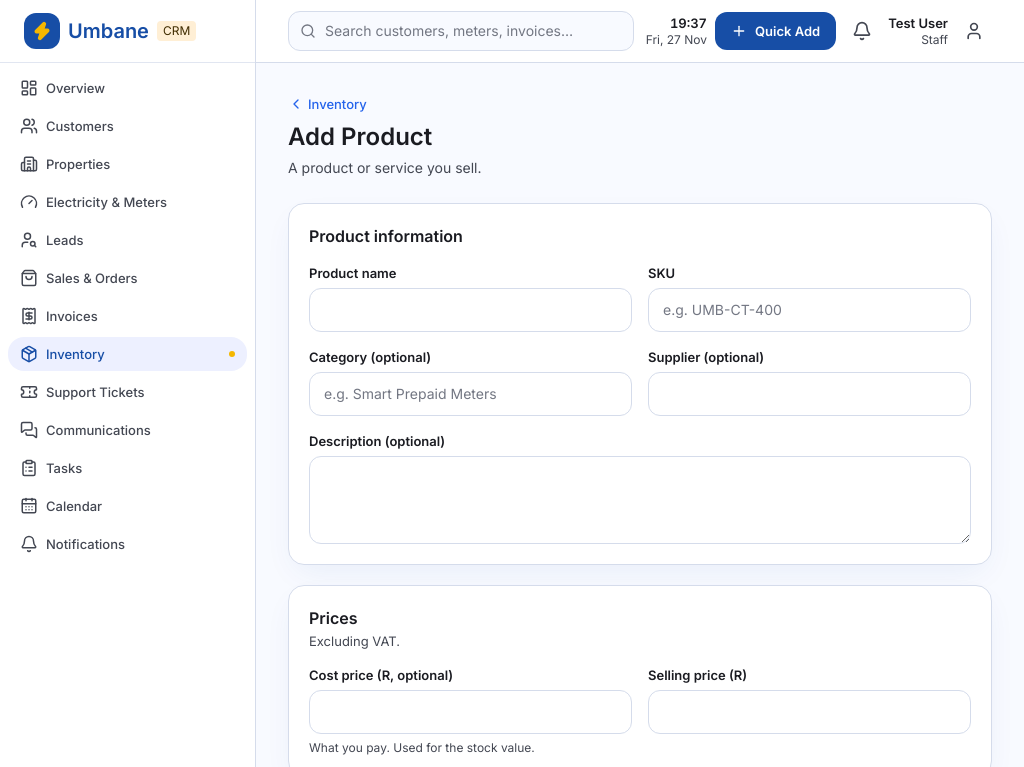
Test case: products › adds a product with opening stock, and shows a duplicate SKU on its field
Type "Prepaid meter" into the field labelled "Product name".
click(470, 310); type("Prepaid meter")  # box [309,288,632,332]
Type "MTR-1" into the field labelled "SKU".
click(810, 310); type("MTR-1")  # box [648,288,971,332]
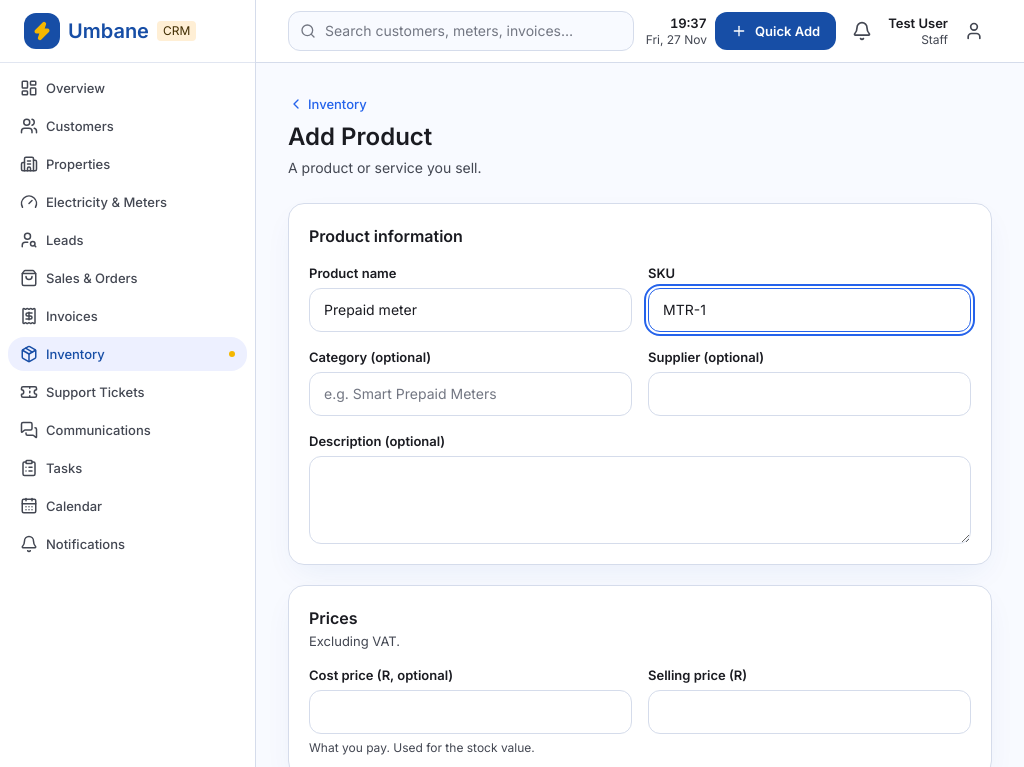
Type "850" into the field labelled "Selling price (R)".
click(810, 712); type("850")  # box [648,690,971,734]
(page scrolled)
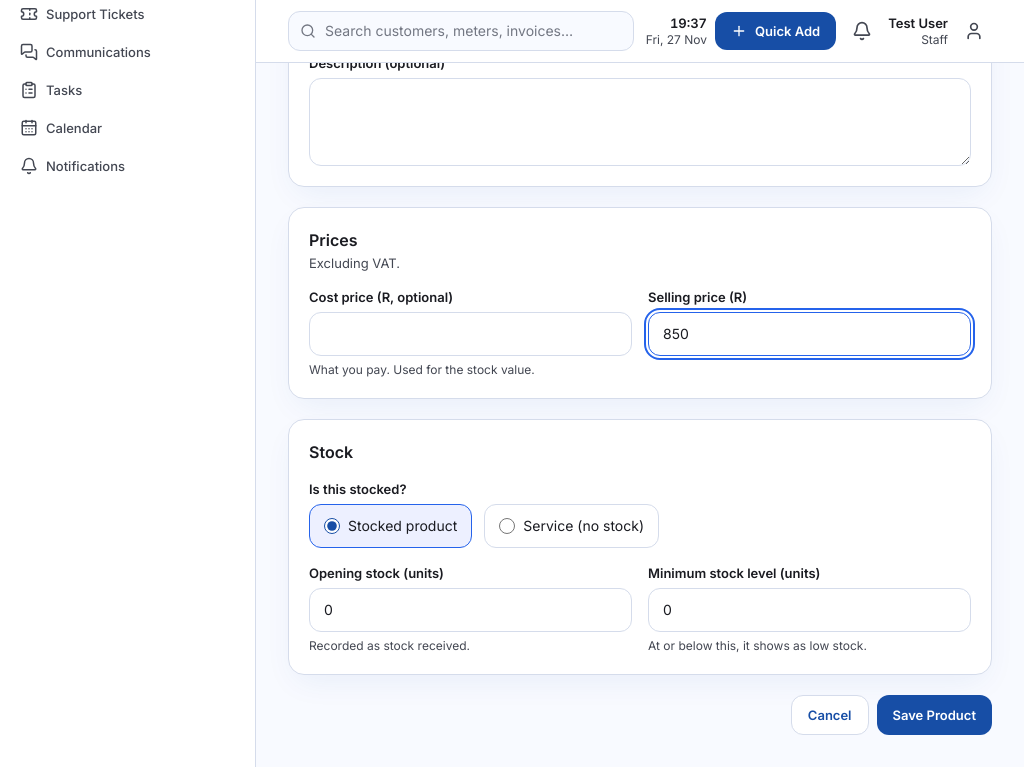
Replace the text in the field labelled "Opening stock (units)" with "20" at x=470, y=610, box [309,588,632,632]
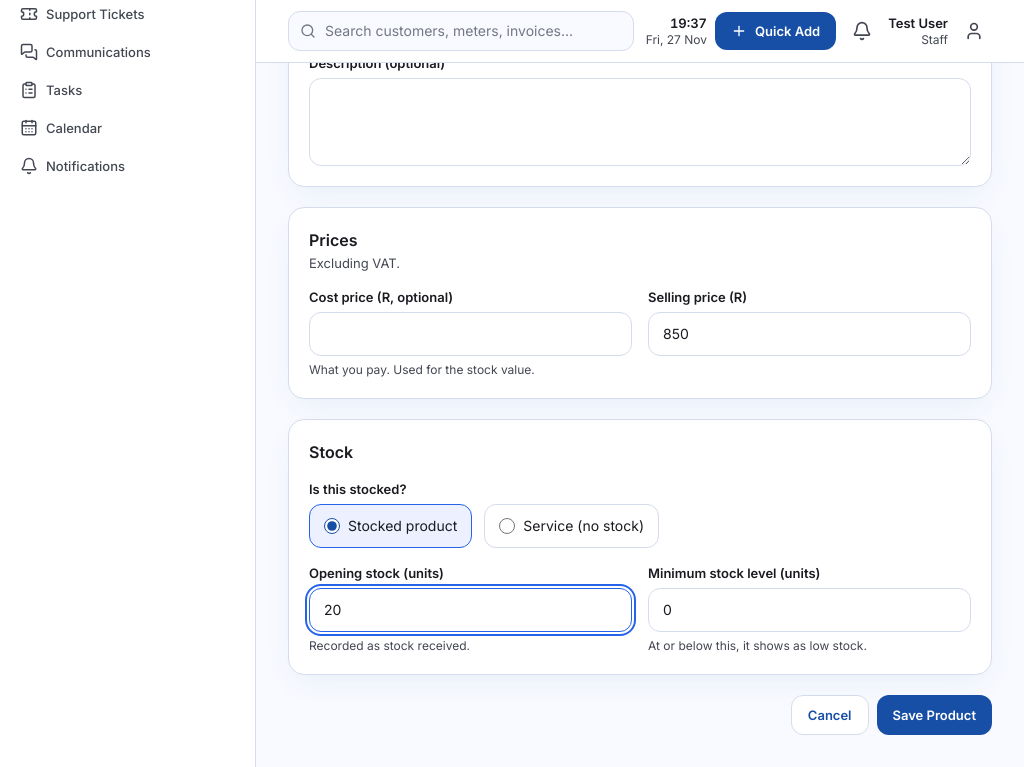
Click the button "Save Product".
click(934, 715)  # box [876,695,992,735]
(page scrolled)
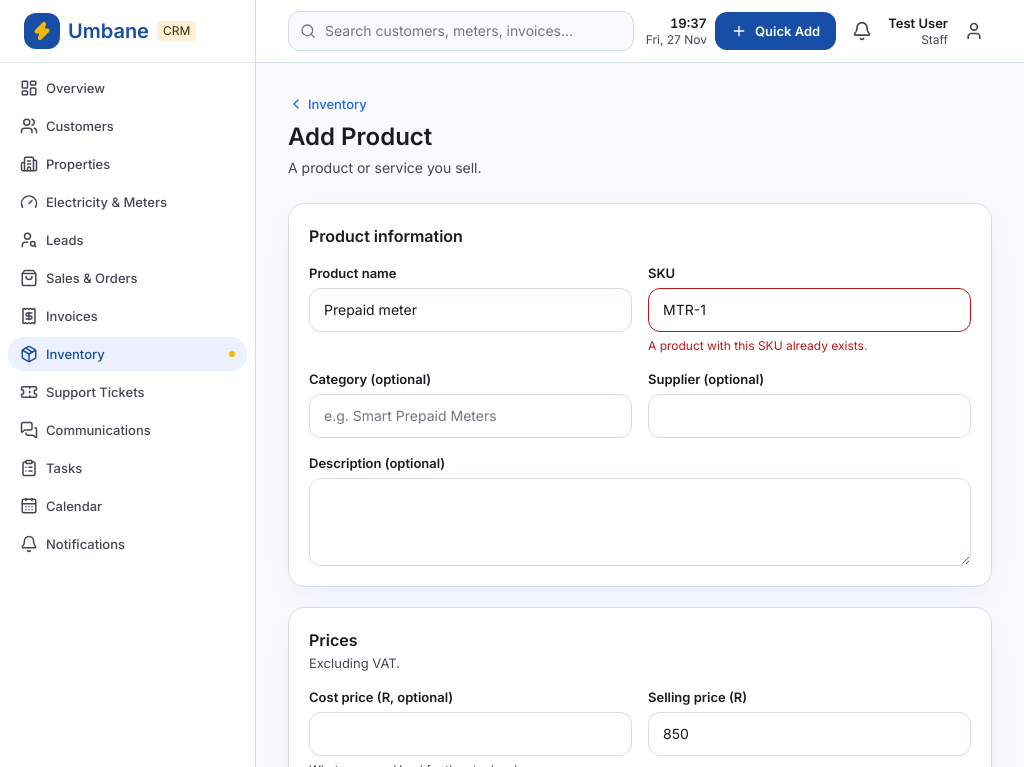
Result: the text "A product with this SKU already exists." is shown at [648,338,867,353]
Type "B" into the field labelled "SKU".
click(810, 310); type("B")  # box [648,288,971,332]
(page scrolled)
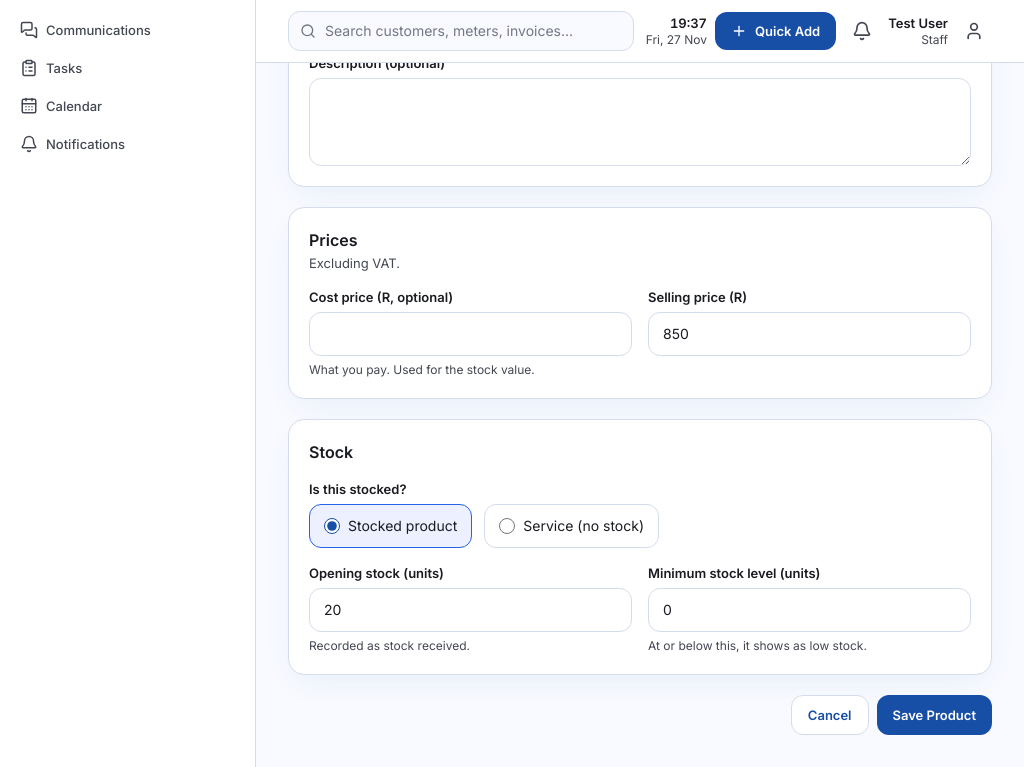
Click the button "Save Product".
click(934, 715)  # box [876,695,992,735]
(page scrolled)
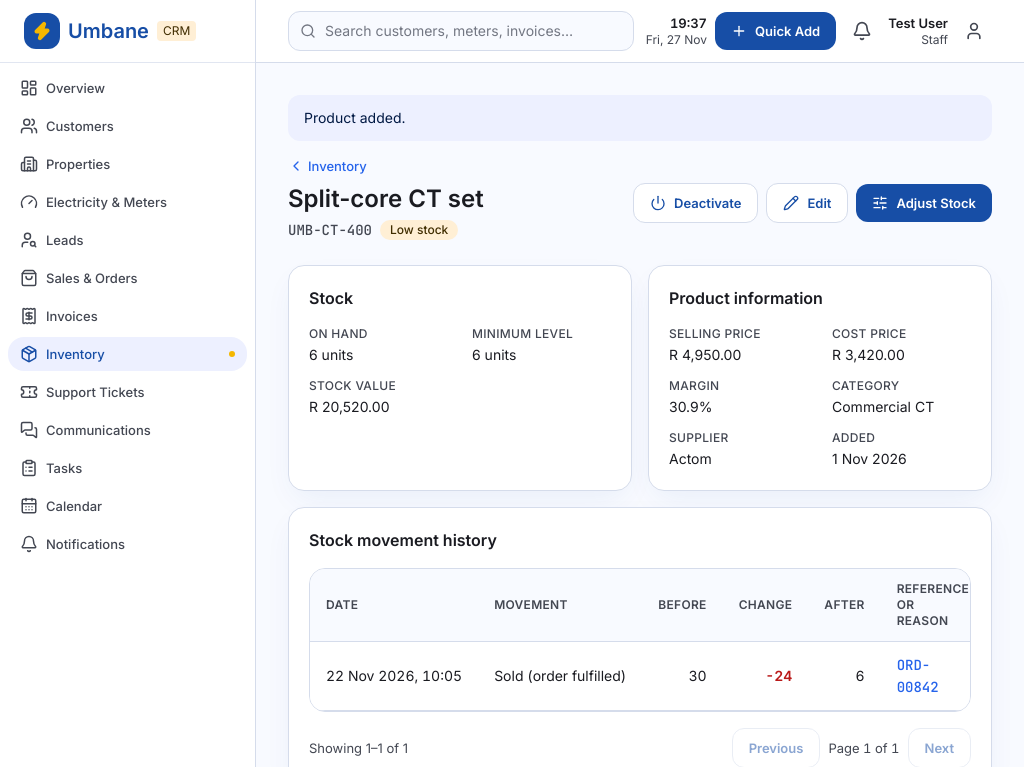
Result: the text "Product added." is shown at [288,95,992,141]
